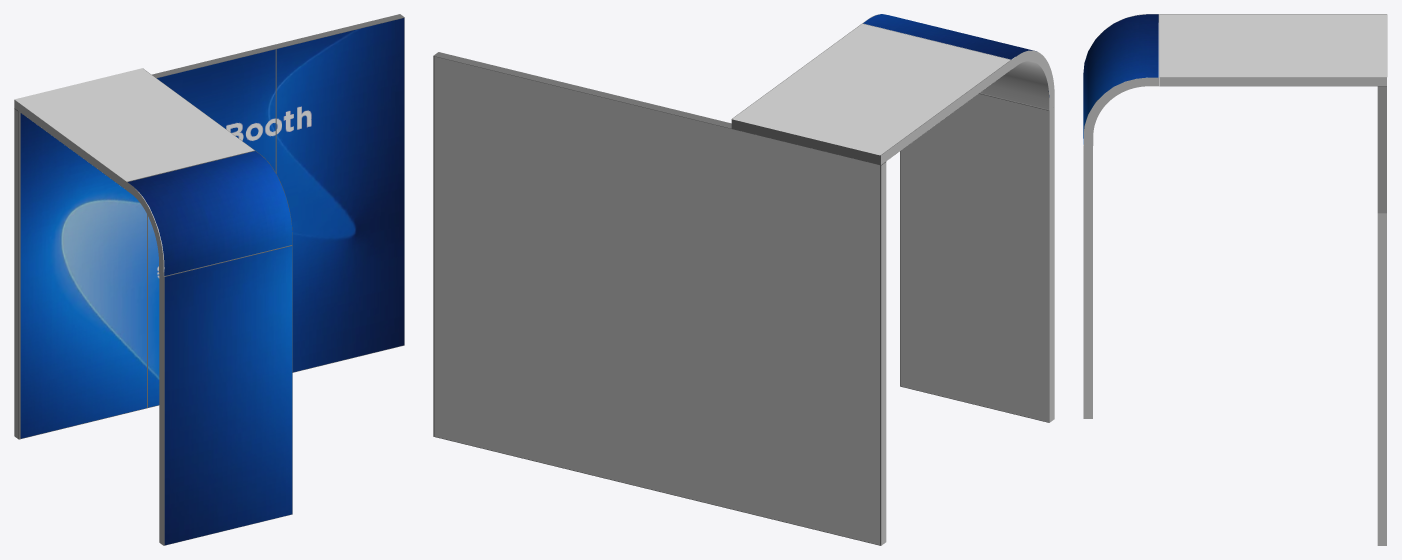
3 views of the same model, side by side, from view 1: azimuth 30°, elevation 25°; view 2: azimuth 150°, elevation 25°; view 3: azimuth 270°, elevation 25° (orthographic). The views are drawn at different scales.
Parts seen in each view (by area): view 1: BM105_graphic_backwall, BM105_graphic_kiosk, PlanBM105_structure_panelse, BM105_structure_metal; view 2: PlanBM105_structure_panelse, BM105_structure_metal, BM105_graphic_kiosk; view 3: PlanBM105_structure_panelse, BM105_graphic_kiosk, BM105_structure_metal.
Boxes of the visible parts, left/top/right/bottom form: BM105_graphic_backwall: left=20, top=18, right=404, bottom=438; BM105_graphic_kiosk: left=128, top=151, right=292, bottom=545; PlanBM105_structure_panelse: left=14, top=68, right=292, bottom=545; BM105_structure_metal: left=14, top=14, right=404, bottom=545; PlanBM105_structure_panelse: left=434, top=14, right=1054, bottom=545; BM105_structure_metal: left=433, top=23, right=1049, bottom=545; BM105_graphic_kiosk: left=863, top=14, right=1049, bottom=97; PlanBM105_structure_panelse: left=1084, top=14, right=1387, bottom=545; BM105_graphic_kiosk: left=1083, top=14, right=1158, bottom=144; BM105_structure_metal: left=1083, top=14, right=1386, bottom=418.
Size of the model in its own units: 2.98 by 2.48 by 2.
Materials: 4 (2 with a texture image).
